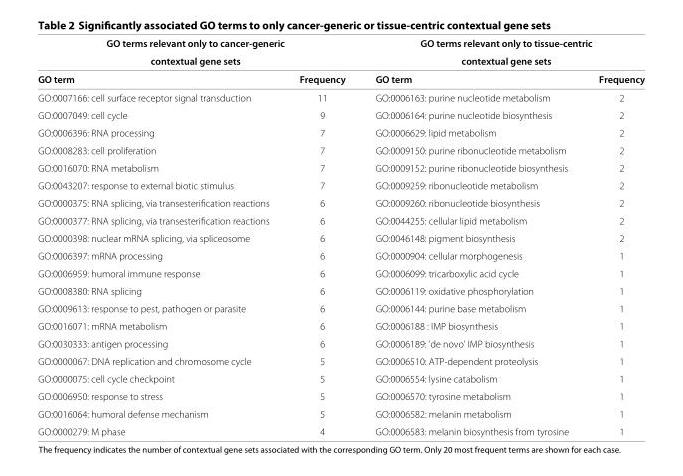table: (37, 37, 644, 436)
table column: (37, 37, 283, 436), (359, 37, 583, 436), (283, 37, 359, 436), (583, 37, 644, 436)
table column header: (37, 37, 644, 88)
table row: (37, 69, 644, 88), (37, 51, 644, 69), (37, 88, 644, 106), (37, 123, 644, 141), (37, 158, 644, 176), (37, 193, 644, 211), (37, 211, 644, 229), (37, 246, 644, 264), (37, 281, 644, 299), (37, 316, 644, 334), (37, 334, 644, 352), (37, 369, 644, 387), (37, 404, 644, 422), (37, 106, 644, 123), (37, 141, 644, 158), (37, 176, 644, 193), (37, 229, 644, 246), (37, 264, 644, 281), (37, 299, 644, 316), (37, 352, 644, 369), (37, 387, 644, 404), (37, 37, 644, 51), (37, 422, 644, 436)
table spanning cell: (37, 37, 359, 69), (359, 37, 644, 69)
